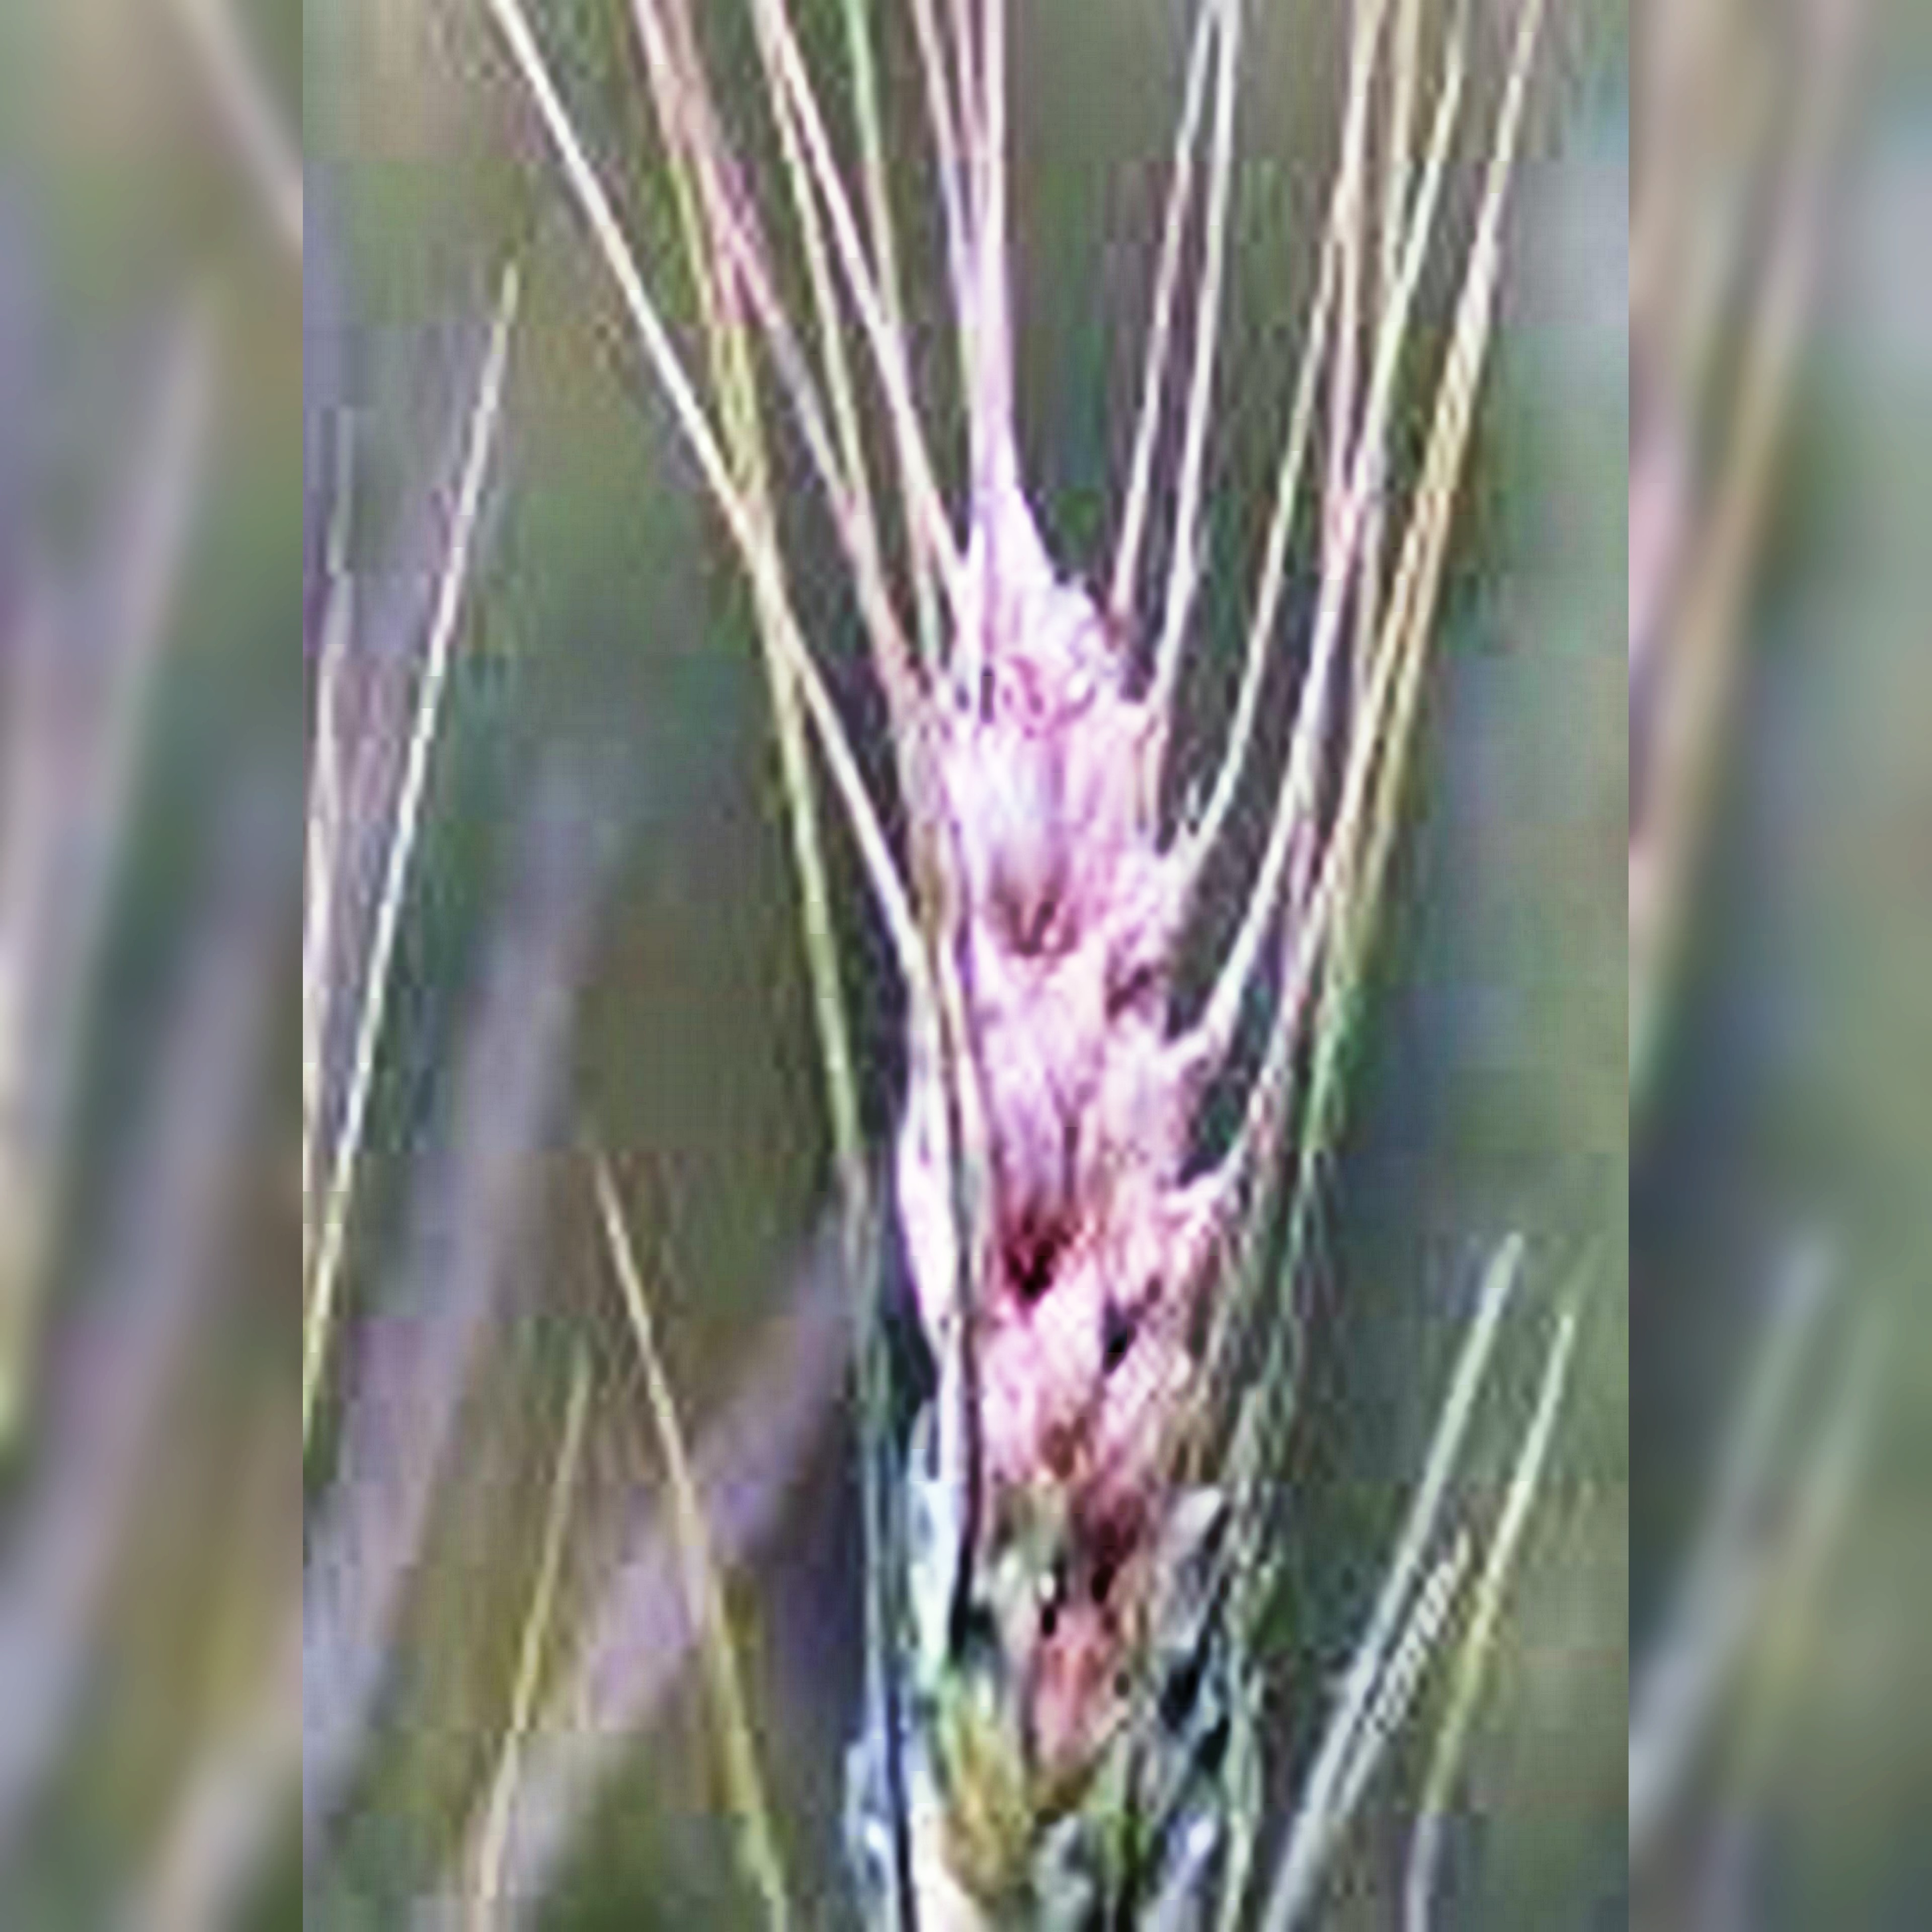Wheat scab: (787, 474, 1286, 1923)
